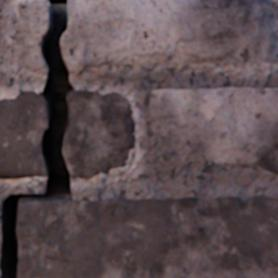brick: (17, 195, 277, 277), (149, 87, 277, 172)
broken_brick: (60, 0, 277, 73), (62, 89, 134, 177), (0, 90, 48, 177), (13, 0, 49, 72)
crack: (0, 0, 73, 277)
